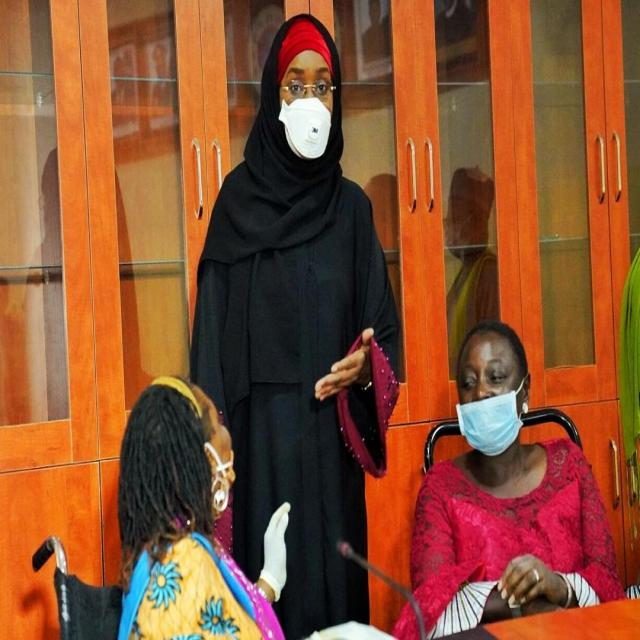mask: (453, 384, 536, 459), (269, 86, 340, 172)
